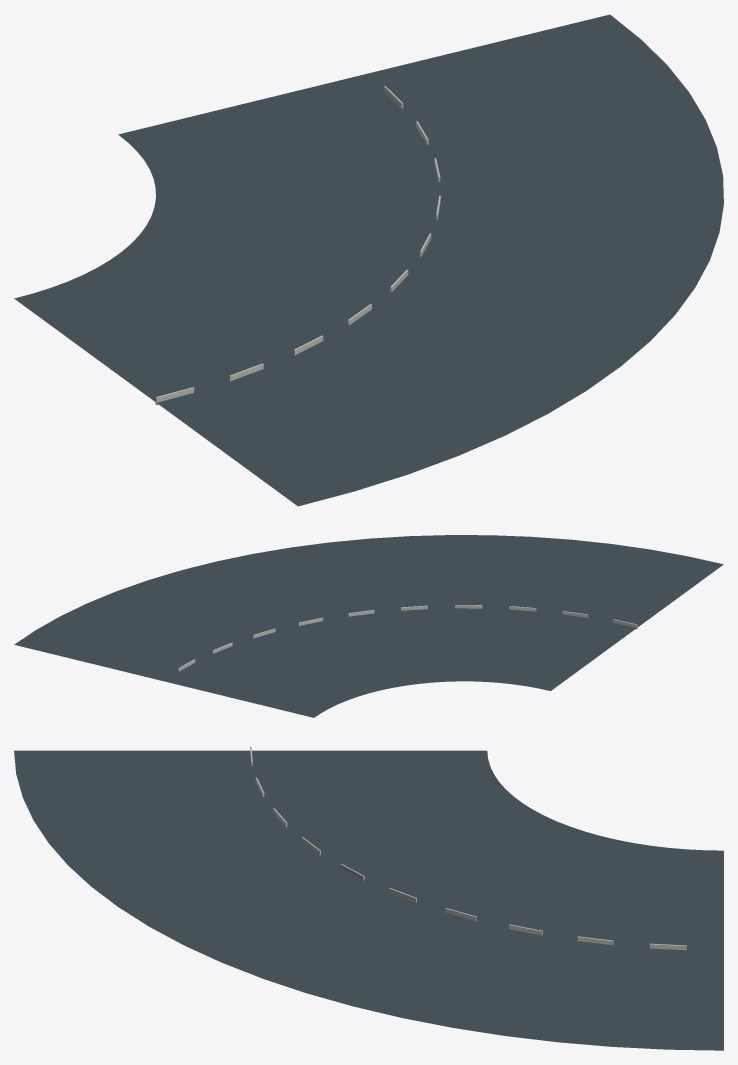
File: landscape-road-curve.lod0.glb
The picture shows the model from 3 angles, top to bottom: view 1: azimuth 30°, elevation 25°; view 2: azimuth 150°, elevation 25°; view 3: azimuth 270°, elevation 25°; orthographic projection. The views are drawn at different scales.
Visible parts, largest first — view 1: landscape-road-curve__body; view 2: landscape-road-curve__body; view 3: landscape-road-curve__body.
Part boxes in pixels (x1,y1,x2,y2): landscape-road-curve__body: [14, 14, 723, 506]; landscape-road-curve__body: [14, 535, 723, 717]; landscape-road-curve__body: [14, 746, 723, 1050].
Bounding box in the file's own units: 12 × 0.12 × 12.
